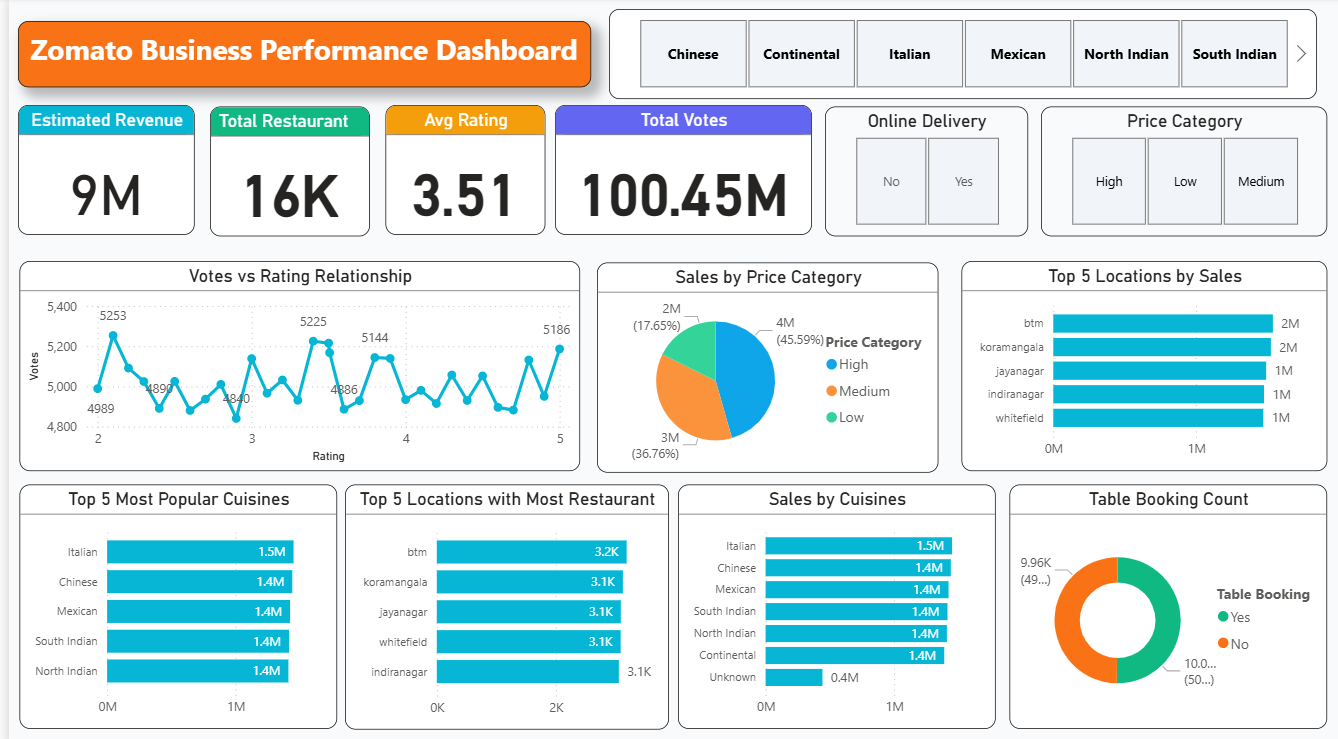

This screenshot's page, from the dashboard's own definition file:
{"tool":"powerbi","page":{"name":"Page 1","canvas":[1280,720],"ordinal":0},"visuals":[{"type":"cardVisual","title":"Total Restaurant","fields":{"Data":["Cleaned_data.Total Restaurants"]},"box":[192.2,104.4,152.4,124.2],"z":0},{"type":"cardVisual","title":"Estimated Revenue","fields":{"Data":["Cleaned_data.Total Sales"]},"box":[8.3,102.7,169,124.2],"z":1000},{"type":"cardVisual","title":"Avg Rating","fields":{"Data":["Cleaned_data.Average Rating"]},"box":[359.5,102.7,152.4,124.2],"z":2000},{"type":"cardVisual","title":"Total Votes","fields":{"Data":["Cleaned_data.Total Votes"]},"box":[521.8,102.7,245.2,124.2],"z":3000},{"type":"slicer","title":"Online Delivery","fields":{"Values":["Cleaned_data.Has Online Delivery"]},"box":[778.5,104.4,193.8,124.2],"z":4000},{"type":"slicer","title":"Price Category","fields":{"Values":["Cleaned_data.Price Category"]},"box":[985.6,104.4,273.3,124.2],"z":5000},{"type":"slicer","title":"cuisines","fields":{"Values":["Cleaned_data.Cuisines"]},"box":[573.1,11.6,675.8,86.1],"z":6000},{"type":"lineChart","title":"Votes vs Rating Relationship","fields":{"Y":["Avg(Cleaned_data.Votes)"],"Category":["Cleaned_data.Aggregate Rating"]},"box":[9.9,251.8,535,200.4],"z":7000},{"type":"pieChart","title":" Sales by Price Category","fields":{"Y":["Cleaned_data.Total Sales"],"Category":["Cleaned_data.Price Category"]},"box":[561.5,253.4,326.3,200.4],"z":8000},{"type":"barChart","title":"Top 5 Locations by Sales","fields":{"Category":["Cleaned_data.Location"],"Y":["Cleaned_data.Total Sales"]},"box":[909.4,251.8,349.5,200.4],"z":9000},{"type":"barChart","title":"Top 5 Most Popular Cuisines","fields":{"Category":["Cleaned_data.Cuisines"],"Y":["Cleaned_data.Total Sales"]},"box":[9.9,465.5,303.1,233.6],"z":10000},{"type":"barChart","title":"Top 5 Locations with Most Restaurant","fields":{"Y":["Cleaned_data.Total Restaurants"],"Category":["Cleaned_data.Location"]},"box":[320.4,465.2,309,234.2],"z":11000},{"type":"barChart","title":" Sales by Cuisines","fields":{"Y":["Cleaned_data.Total Sales"],"Category":["Cleaned_data.Cuisines"]},"box":[639.4,465.5,303.1,233.6],"z":12000},{"type":"donutChart","title":"Table Booking Count","fields":{"Category":["Cleaned_data.Has Table Booking"],"Y":["CountNonNull(Cleaned_data.Restaurant Name)"]},"box":[955.8,465.5,303.1,233.6],"z":13000},{"type":"textbox","box":[8.6,22.9,547.2,63],"z":14000}]}

Visuals, with their boxes in screenshot pixels (x1, y1, x2, y2), scaled from the page's 1280x720 canvas onto the 1338x739 screenshot:
"Total Restaurant" cardVisual: detection(201, 107, 360, 235)
"Estimated Revenue" cardVisual: detection(9, 105, 185, 233)
"Avg Rating" cardVisual: detection(376, 105, 535, 233)
"Total Votes" cardVisual: detection(545, 105, 802, 233)
"Online Delivery" slicer: detection(814, 107, 1016, 235)
"Price Category" slicer: detection(1030, 107, 1316, 235)
"cuisines" slicer: detection(599, 12, 1305, 100)
"Votes vs Rating Relationship" lineChart: detection(10, 258, 570, 464)
" Sales by Price Category" pieChart: detection(587, 260, 928, 466)
"Top 5 Locations by Sales" barChart: detection(951, 258, 1316, 464)
"Top 5 Most Popular Cuisines" barChart: detection(10, 478, 327, 718)
"Top 5 Locations with Most Restaurant" barChart: detection(335, 477, 658, 718)
" Sales by Cuisines" barChart: detection(668, 478, 985, 718)
"Table Booking Count" donutChart: detection(999, 478, 1316, 718)
textbox: detection(9, 24, 581, 88)
